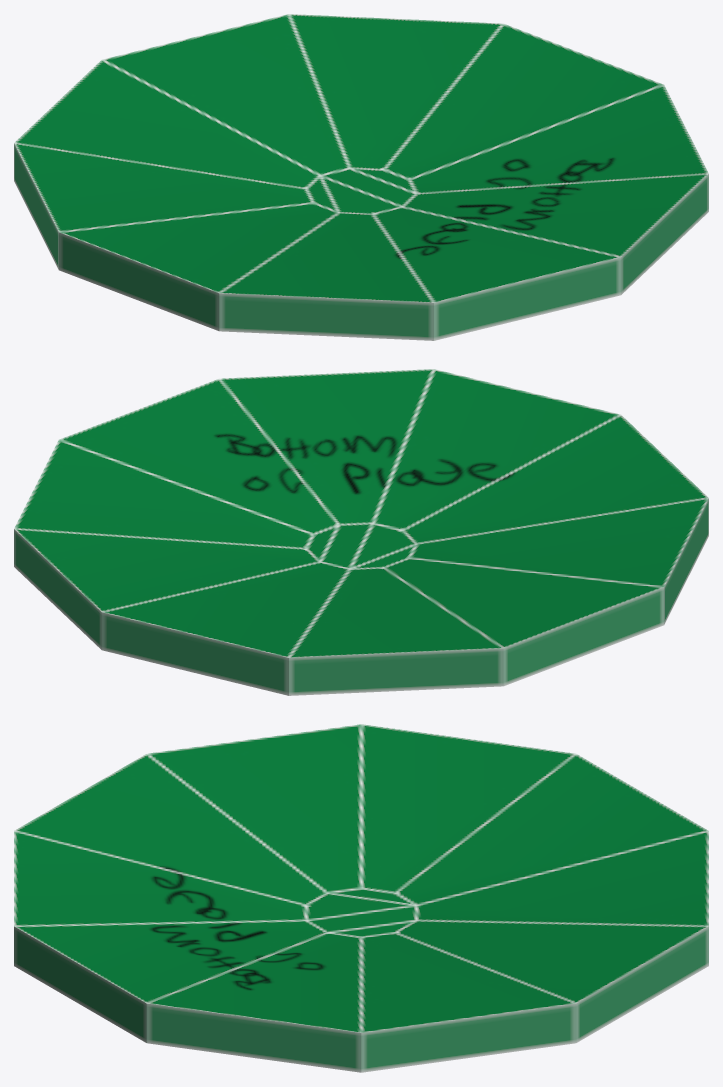
The model's file is hs_plate.fbx.
3 renders of one model, top to bottom at view 1: azimuth 30°, elevation 25°; view 2: azimuth 150°, elevation 25°; view 3: azimuth 270°, elevation 25°, orthographic. The views are drawn at different scales.
Visible parts, largest first — view 1: plate; view 2: plate; view 3: plate.
Part boxes in pixels (x1,y1,x2,y2): plate: (14,14,708,340); plate: (14,369,708,695); plate: (14,724,708,1072).
Bounding box in the file's own units: 5 × 0.4415 × 4.76.
